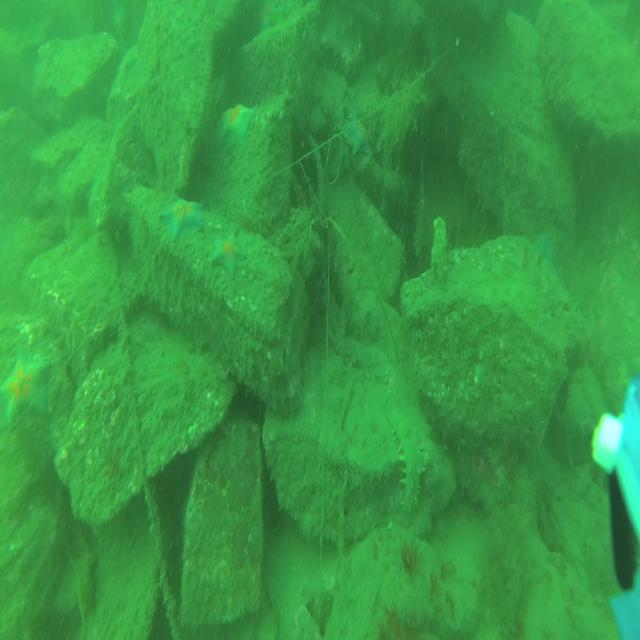holothurian: (388, 408, 426, 513)
starfish: (1, 353, 49, 428), (162, 198, 204, 238), (212, 231, 245, 275), (223, 103, 255, 148), (342, 117, 371, 154)
